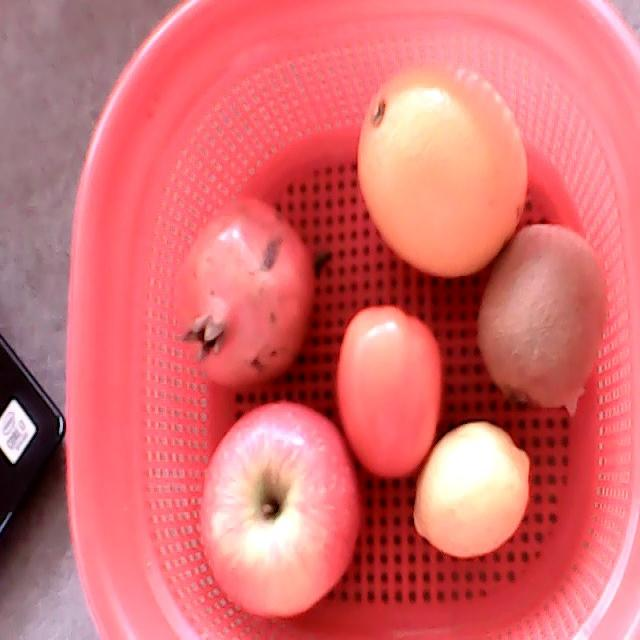apple: (198, 403, 360, 616)
kiwi: (478, 221, 609, 408)
lemon: (413, 422, 528, 557)
orange: (359, 60, 526, 276)
pomegranate: (173, 197, 316, 384)
tomato: (338, 306, 443, 479)
